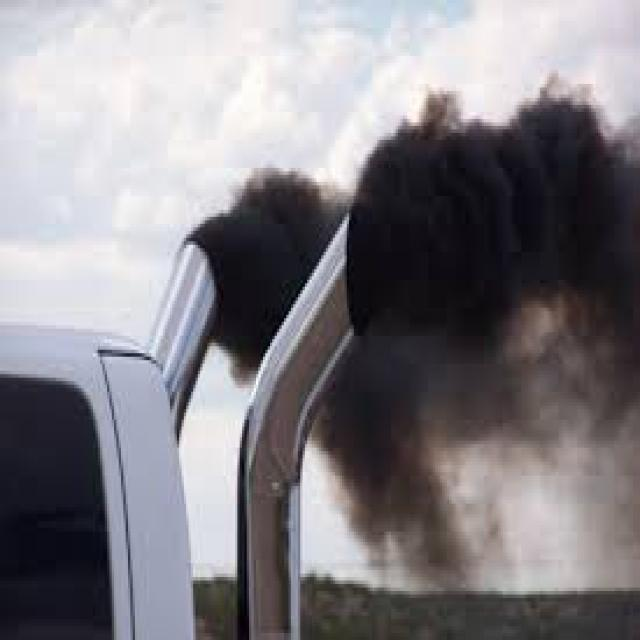Smoke: (205, 76, 640, 600)
